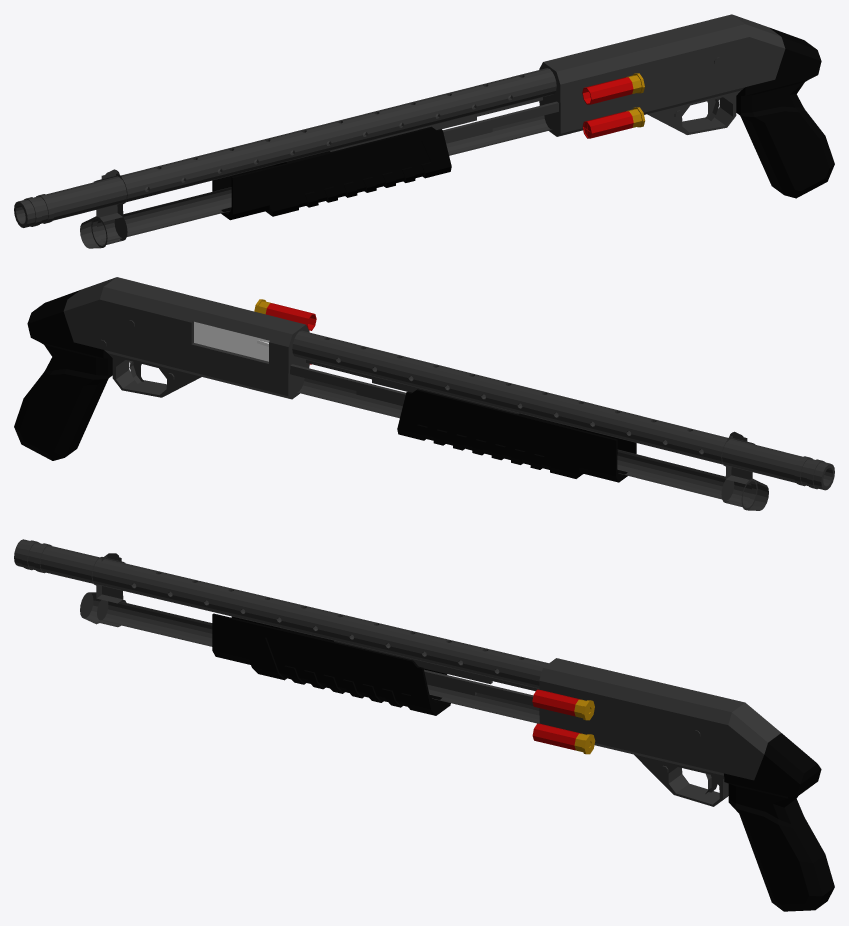
The model's file is fort-500.glb.
3 renders of one model, top to bottom at view 1: azimuth 30°, elevation 25°; view 2: azimuth 150°, elevation 25°; view 3: azimuth 330°, elevation 25°, orthographic.
Parts seen in each view (by area): view 1: Cube.003_0, Cube.001_1, Cylinder.001_3, Cylinder.002_4; view 2: Cube.003_0, Cube.001_1, Cylinder.002_4; view 3: Cube.003_0, Cube.001_1, Cylinder.001_3, Cylinder.002_4.
Boxes of the visible parts, x1,y1,x2,y2 form: Cube.003_0: [14, 14, 834, 248]; Cube.001_1: [212, 97, 558, 220]; Cylinder.001_3: [582, 107, 645, 138]; Cylinder.002_4: [582, 73, 644, 104]; Cube.003_0: [14, 277, 834, 510]; Cube.001_1: [194, 321, 636, 482]; Cylinder.002_4: [254, 299, 316, 330]; Cube.003_0: [14, 539, 834, 911]; Cube.001_1: [212, 613, 539, 715]; Cylinder.001_3: [532, 723, 595, 754]; Cylinder.002_4: [532, 689, 594, 720].
Bounding box in the file's own units: 9.96 × 2.22 × 0.8848.
